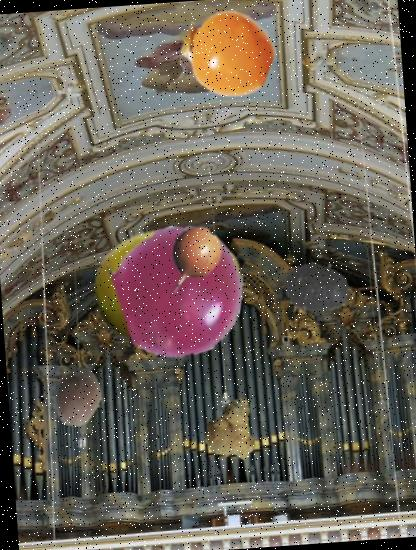Avocado: (282, 252, 354, 324)
Ginger: (200, 392, 270, 462)
Granadilla: (150, 220, 228, 298)
Maracuja: (90, 210, 247, 367)
Physalis: (178, 2, 276, 101)
Potato: (46, 366, 112, 431)
Redcurrant: (110, 222, 249, 360)
